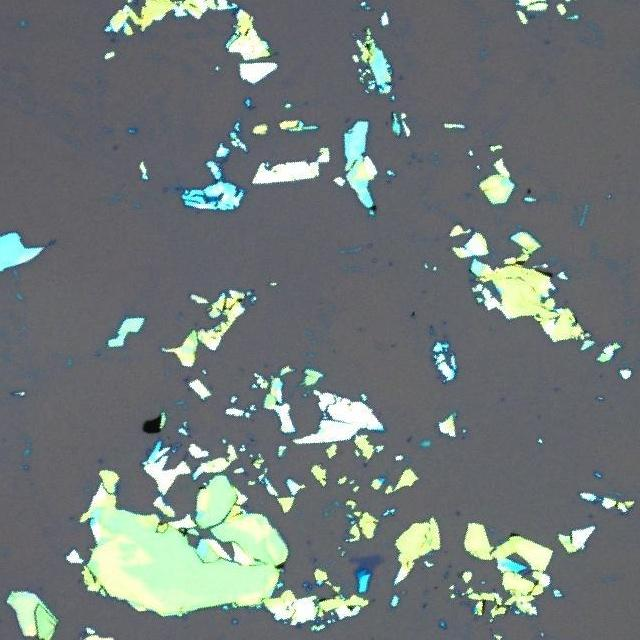monolayer-eWW4: (350, 554, 383, 570)
